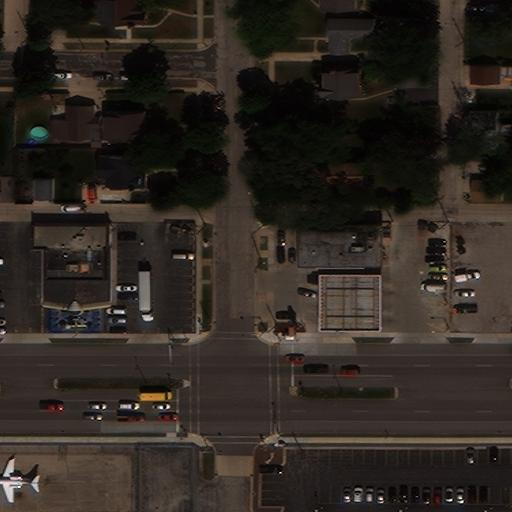Small Civil Transport: (0, 458, 40, 503)
